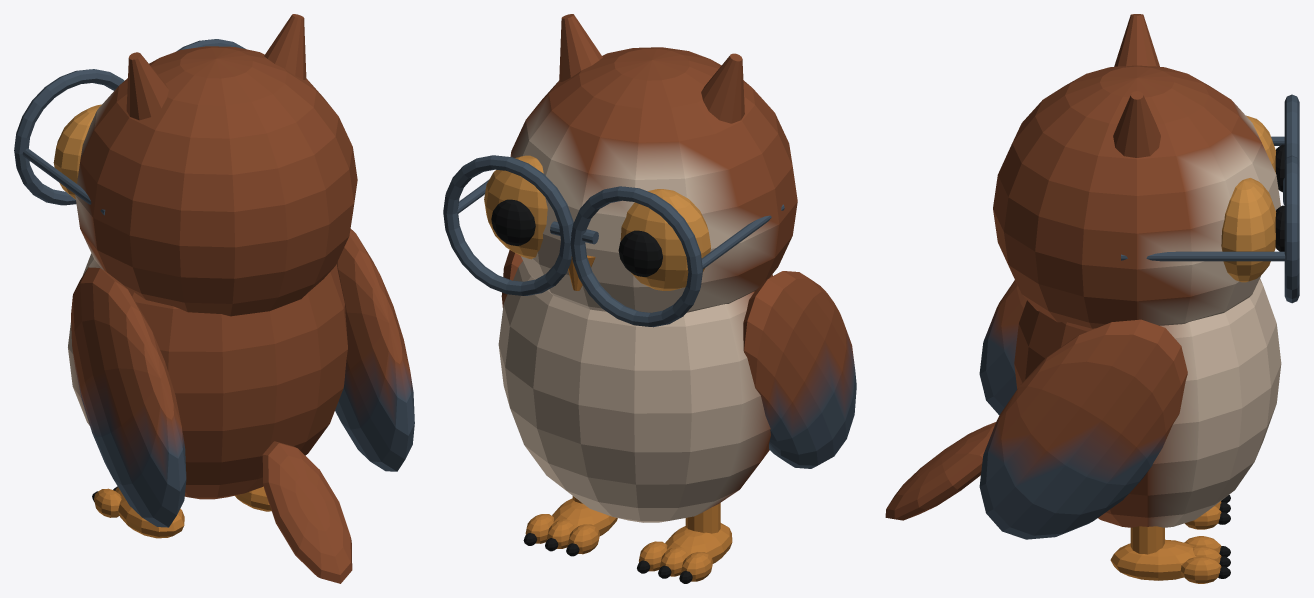
3 views of the same model, side by side, from view 1: azimuth 30°, elevation 25°; view 2: azimuth 150°, elevation 25°; view 3: azimuth 270°, elevation 25° (orthographic). The views are drawn at different scales.
Size of the model in its own units: 0.617 by 1.03 by 0.7751.
